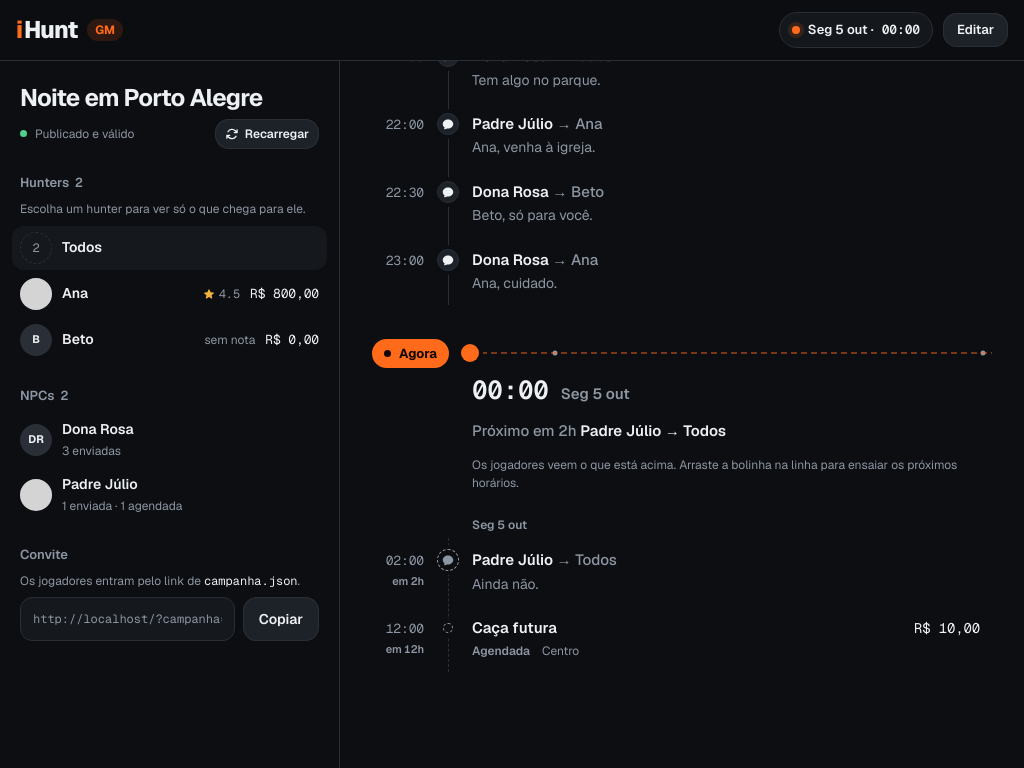
GM view › rehearses a later date without changing the campaign
The image size is (1024, 768).
(page scrolled)
Step 1. Set the slider named "Ensaiar a data da campanha" to "90" → (533, 353), box 461,337 -> 992,369
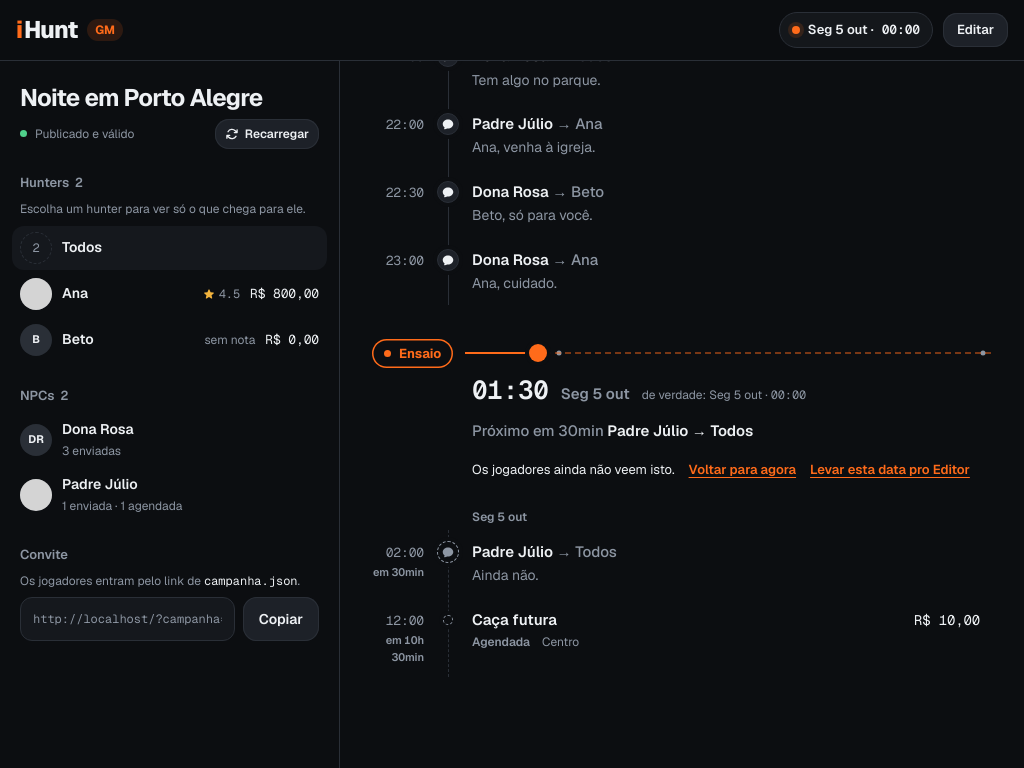
Expected: the text "Vai sair" is not shown
Expected: the text "Ensaio" is shown, 372,339 -> 453,368
Step 2. Set the slider named "Ensaiar a data da campanha" to "150" → (580, 353), box 465,337 -> 992,369
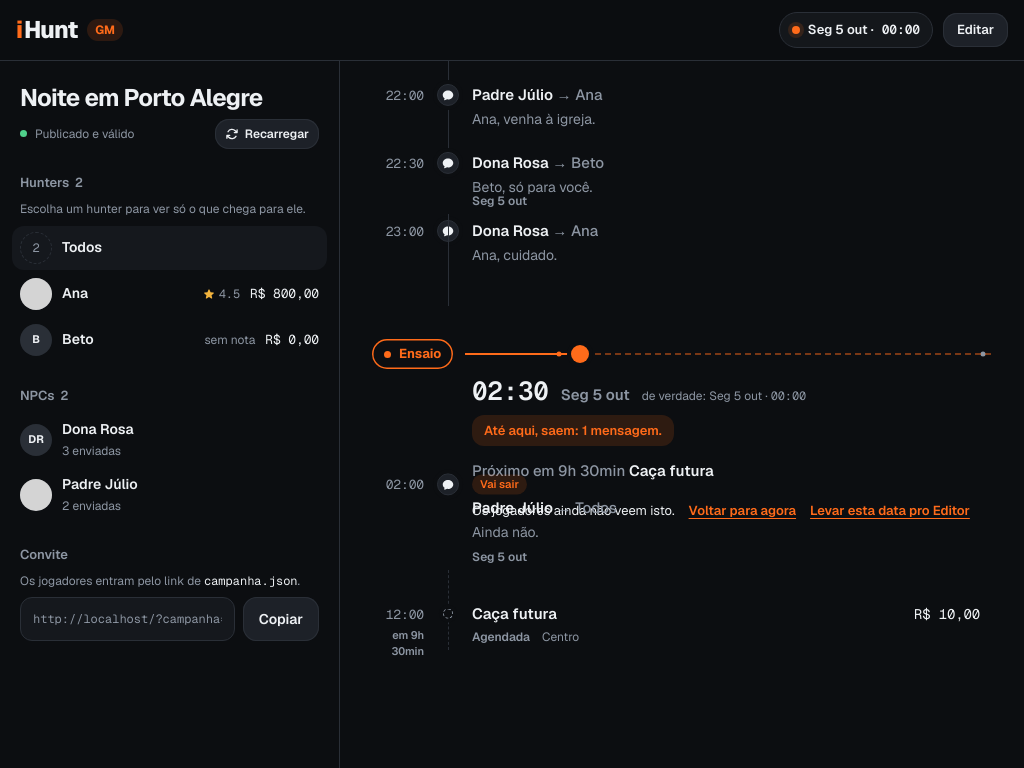
Expected: the text "Os jogadores ainda não veem isto. Voltar para agora Levar esta data pro Editor" is shown, 472,497 -> 970,524
Expected: the text "Até aqui, saem: 1 mensagem." is shown, 472,415 -> 674,446
Expected: the text "Vai sair" is shown, 472,236 -> 527,257
Step 3. Click the button "Voltar para agora" → (742, 510), box 689,497 -> 796,524
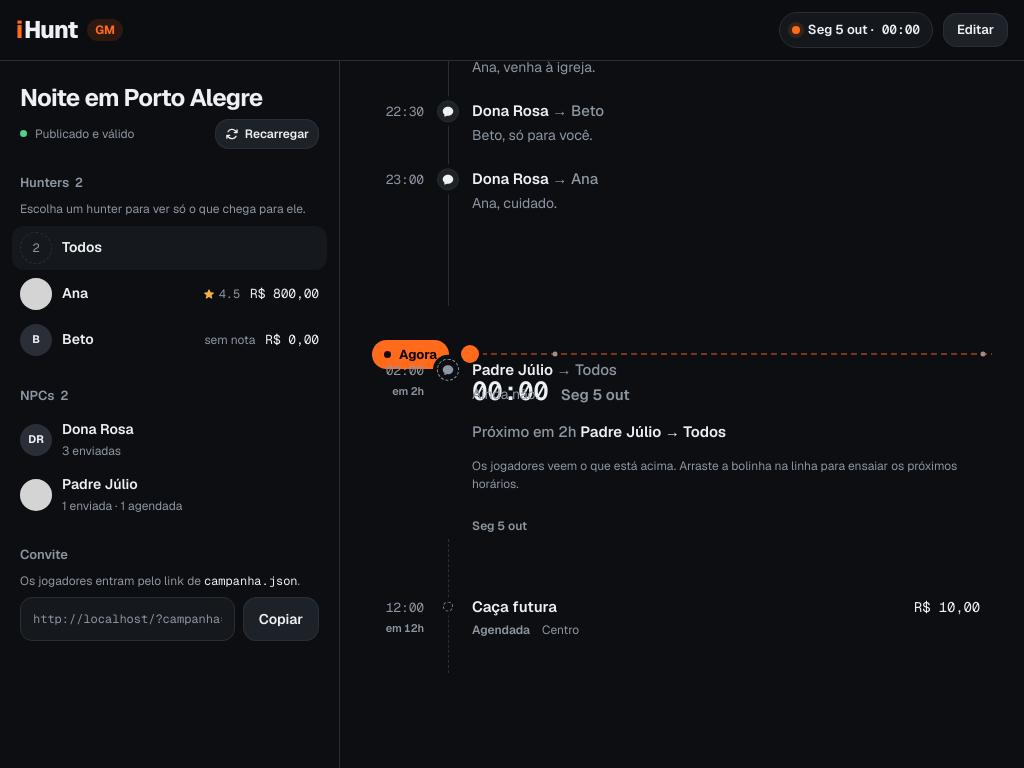
Expected: the text "Ensaio" is gone
